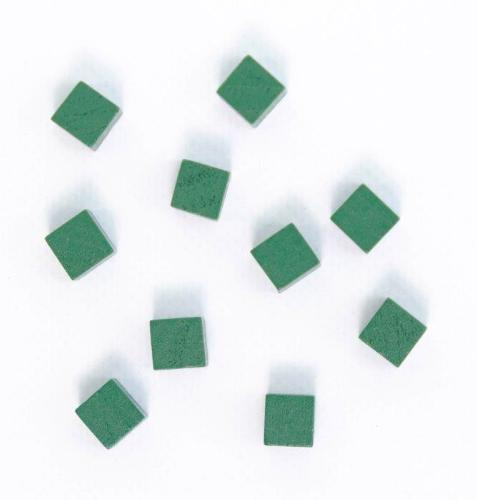green cube: (215, 52, 290, 129), (43, 207, 118, 282), (72, 375, 148, 449), (249, 221, 321, 294), (51, 82, 124, 153), (359, 297, 428, 369), (329, 184, 402, 252), (171, 157, 230, 218), (151, 317, 207, 371), (263, 392, 315, 447)
